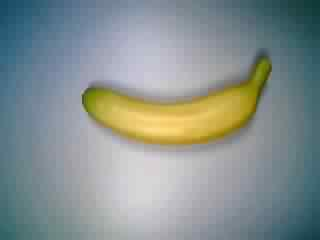banana: (80, 55, 275, 147)
